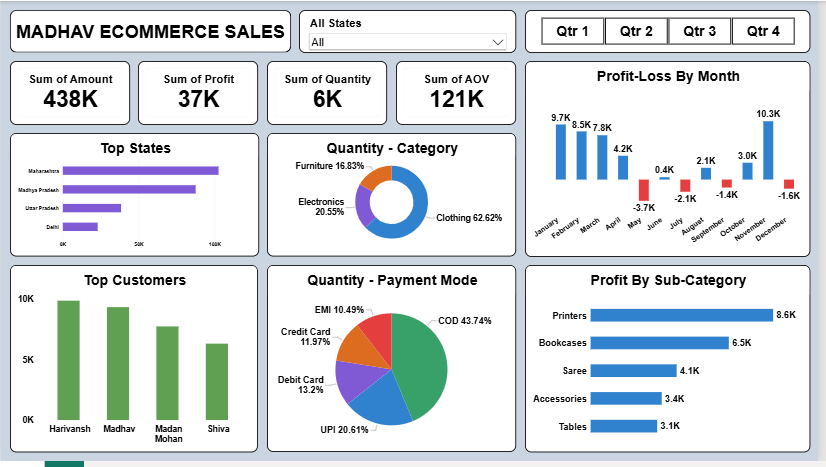

Layout of this report page (visuals, bound fields, positions):
{"tool":"powerbi","page":{"name":"Page 1","canvas":[1920,1080],"ordinal":0},"visuals":[{"type":"shape","box":[20,20,660,100],"z":0},{"type":"columnChart","title":"Profit-Loss By Month","fields":{"Category":["Orders.Order Date.Variation.Date Hierarchy.Month"],"Y":["Sum(Details.Profit)"]},"box":[1230.3,140.9,670,460.2],"z":1000},{"type":"clusteredBarChart","title":"Profit By Sub-Category","fields":{"Y":["Sum(Details.Profit)"],"Category":["Details.Sub-Category"]},"box":[1230.3,620,670,440],"z":2000},{"type":"donutChart","title":"Quantity - Category","fields":{"Category":["Details.Category"],"Y":["Sum(Details.Quantity)"]},"box":[624.5,309.9,585,290],"z":3000},{"type":"pieChart","title":"Quantity - Payment Mode","fields":{"Category":["Details.PaymentMode"],"Y":["Sum(Details.Quantity)"]},"box":[624.5,619.8,584.6,439],"z":4000},{"type":"cardVisual","fields":{"Data":["Sum(Details.Amount)"]},"box":[20,140.9,282,150],"z":5000},{"type":"cardVisual","fields":{"Data":["Sum(Details.Profit)"]},"box":[322,140.9,282,150],"z":6000},{"type":"cardVisual","fields":{"Data":["Sum(Details.Quantity)"]},"box":[625,140.9,282,150],"z":7000},{"type":"cardVisual","fields":{"Data":["Sum(Details.AOV)"]},"box":[927.4,140.9,282,150],"z":8000},{"type":"barChart","title":"Top States","fields":{"Category":["Orders.State"],"Y":["Sum(Details.Amount)"]},"box":[20,310,585,290],"z":9000},{"type":"columnChart","title":"Top Customers","fields":{"Category":["Orders.CustomerName"],"Y":["Sum(Details.Amount)"]},"box":[20,620,582.3,440],"z":10000},{"type":"slicer","fields":{"Values":["Orders.Order Date.Variation.Date Hierarchy.Quarter"]},"box":[1230.3,20,670,101],"z":11000},{"type":"slicer","fields":{"Values":["Orders.State"]},"box":[700,20,510,101],"z":12000}]}

Visuals, with their boxes in screenshot pixels (x1, y1, x2, y2), scaled from the page's 1920x1080 canvas onto the 826x467 screenshot:
shape: pyautogui.locateOnScreen(9, 9, 293, 52)
"Profit-Loss By Month" columnChart: pyautogui.locateOnScreen(529, 61, 818, 260)
"Profit By Sub-Category" clusteredBarChart: pyautogui.locateOnScreen(529, 268, 818, 458)
"Quantity - Category" donutChart: pyautogui.locateOnScreen(269, 134, 520, 259)
"Quantity - Payment Mode" pieChart: pyautogui.locateOnScreen(269, 268, 520, 458)
cardVisual - Sum(Details.Amount): pyautogui.locateOnScreen(9, 61, 130, 126)
cardVisual - Sum(Details.Profit): pyautogui.locateOnScreen(139, 61, 260, 126)
cardVisual - Sum(Details.Quantity): pyautogui.locateOnScreen(269, 61, 390, 126)
cardVisual - Sum(Details.AOV): pyautogui.locateOnScreen(399, 61, 520, 126)
"Top States" barChart: pyautogui.locateOnScreen(9, 134, 260, 259)
"Top Customers" columnChart: pyautogui.locateOnScreen(9, 268, 259, 458)
slicer - Orders.Order Date.Variation.Date Hierarchy.Quarter: pyautogui.locateOnScreen(529, 9, 818, 52)
slicer - Orders.State: pyautogui.locateOnScreen(301, 9, 521, 52)
